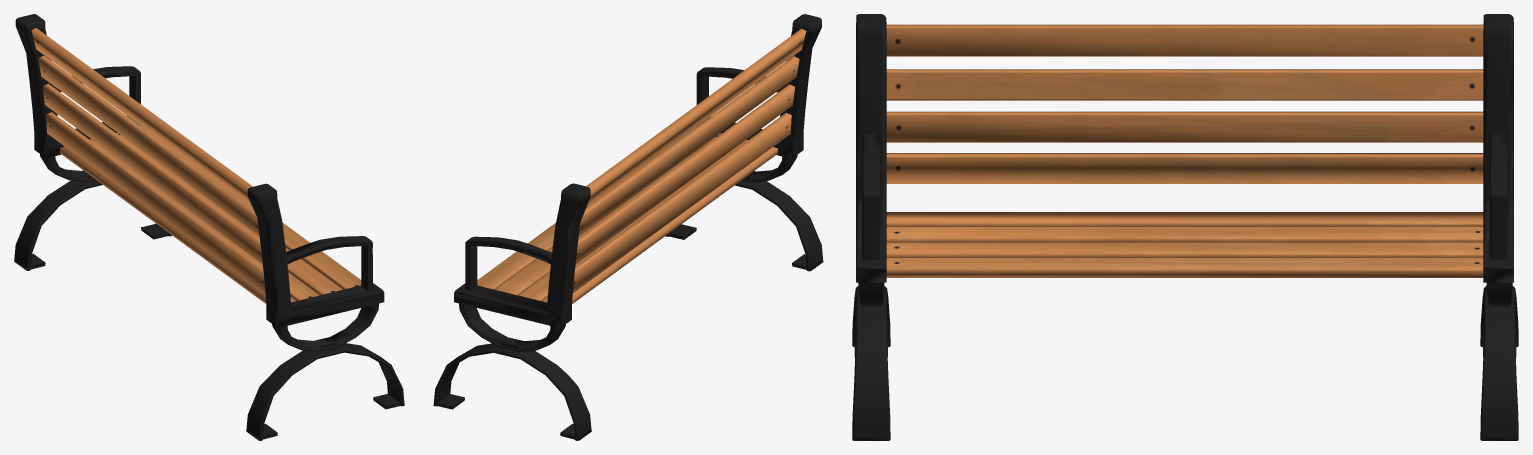
Rendered from Bench.fbx.
3 views of the same model, side by side, from view 1: azimuth 30°, elevation 25°; view 2: azimuth 150°, elevation 25°; view 3: azimuth 270°, elevation 25° (orthographic). The views are drawn at different scales.
Visible parts, largest first — view 1: big_base2_VRayMtl2_0; view 2: big_base2_VRayMtl2_0; view 3: big_base2_VRayMtl2_0.
Part boxes in pixels (box(x1,y1,x2,y2)): big_base2_VRayMtl2_0: box(14, 14, 404, 440); big_base2_VRayMtl2_0: box(433, 14, 823, 440); big_base2_VRayMtl2_0: box(852, 14, 1518, 440).
Bounding box in the file's own units: 61.32 × 97.94 × 178.
Materials: 1 (1 with a texture image).
